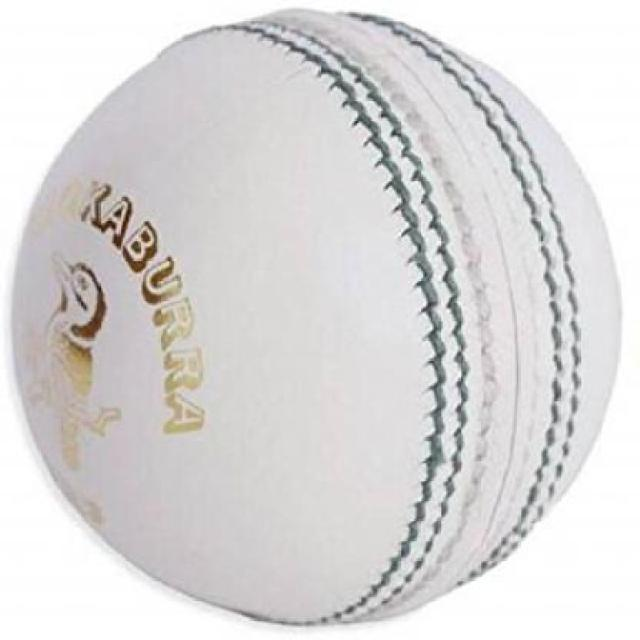Cricket ball: (4, 4, 630, 635)
